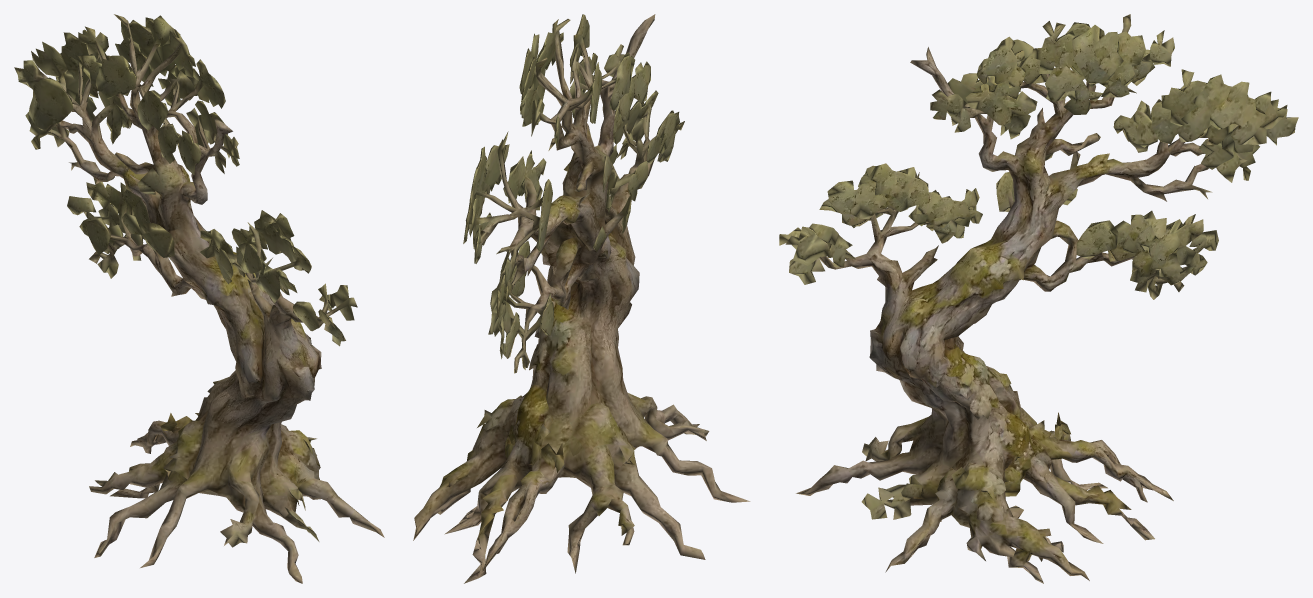
The model's file is wind_tree.glb.
3 views of the same model, side by side, from view 1: azimuth 30°, elevation 25°; view 2: azimuth 150°, elevation 25°; view 3: azimuth 270°, elevation 25° (orthographic). The views are drawn at different scales.
Parts seen in each view (by area): view 1: tripo_node_68783124_b4c6_4edd_85ad_1742eaf97da1__tree; view 2: tripo_node_68783124_b4c6_4edd_85ad_1742eaf97da1__tree; view 3: tripo_node_68783124_b4c6_4edd_85ad_1742eaf97da1__tree.
Part boxes in pixels (x1,y1,x2,y2): tripo_node_68783124_b4c6_4edd_85ad_1742eaf97da1__tree: (14,14,384,583); tripo_node_68783124_b4c6_4edd_85ad_1742eaf97da1__tree: (413,14,750,583); tripo_node_68783124_b4c6_4edd_85ad_1742eaf97da1__tree: (779,14,1298,583).
Bounding box in the file's own units: 1.29 × 2.6 × 2.44.
1 material, 1 textured.
